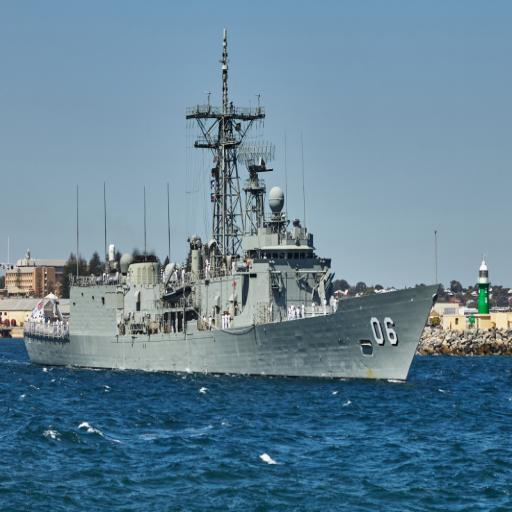Fragata: (20, 17, 445, 388)
